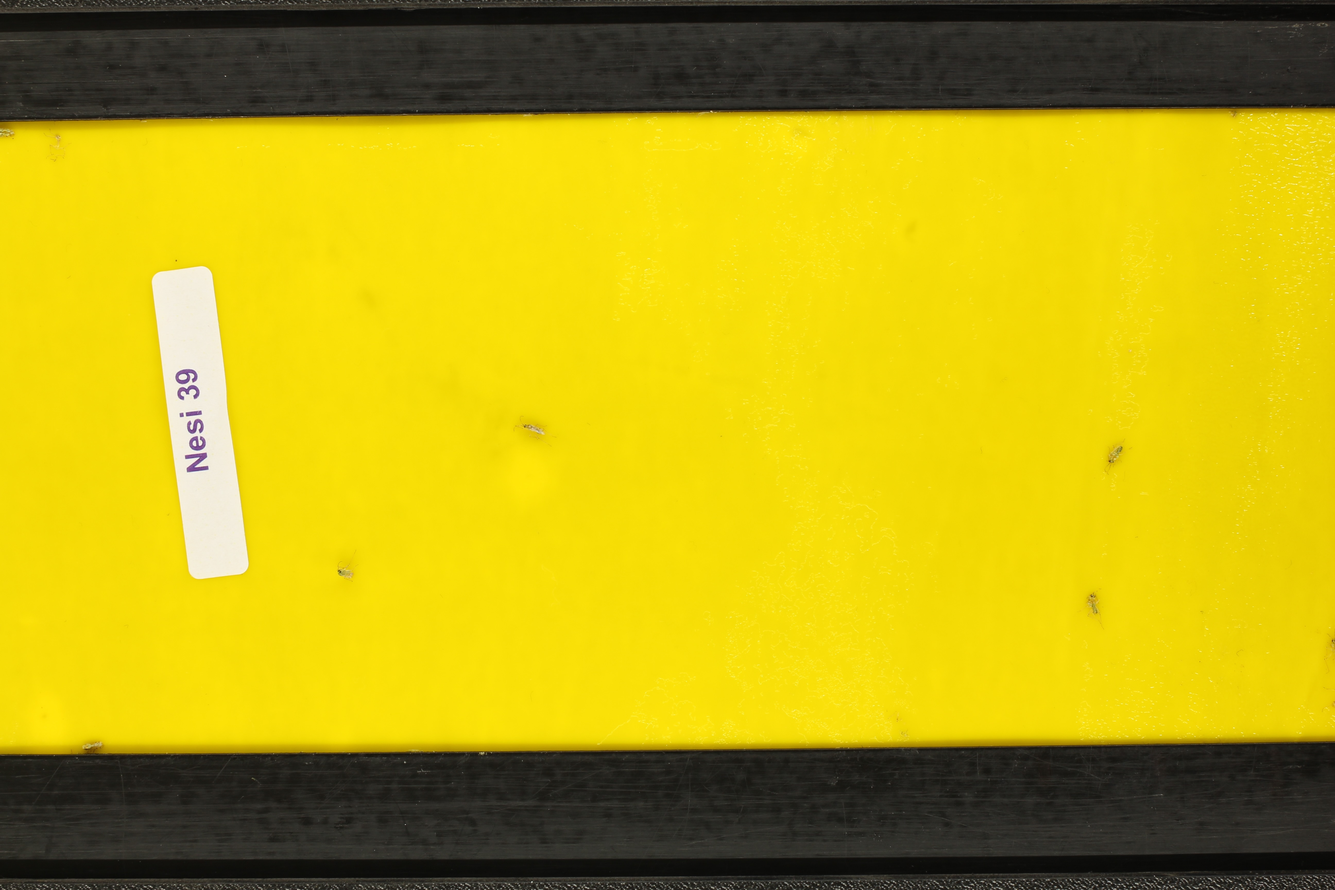NC: (508, 415, 561, 447), (1100, 436, 1129, 476), (1080, 585, 1104, 625), (74, 732, 109, 756), (330, 559, 360, 586)
